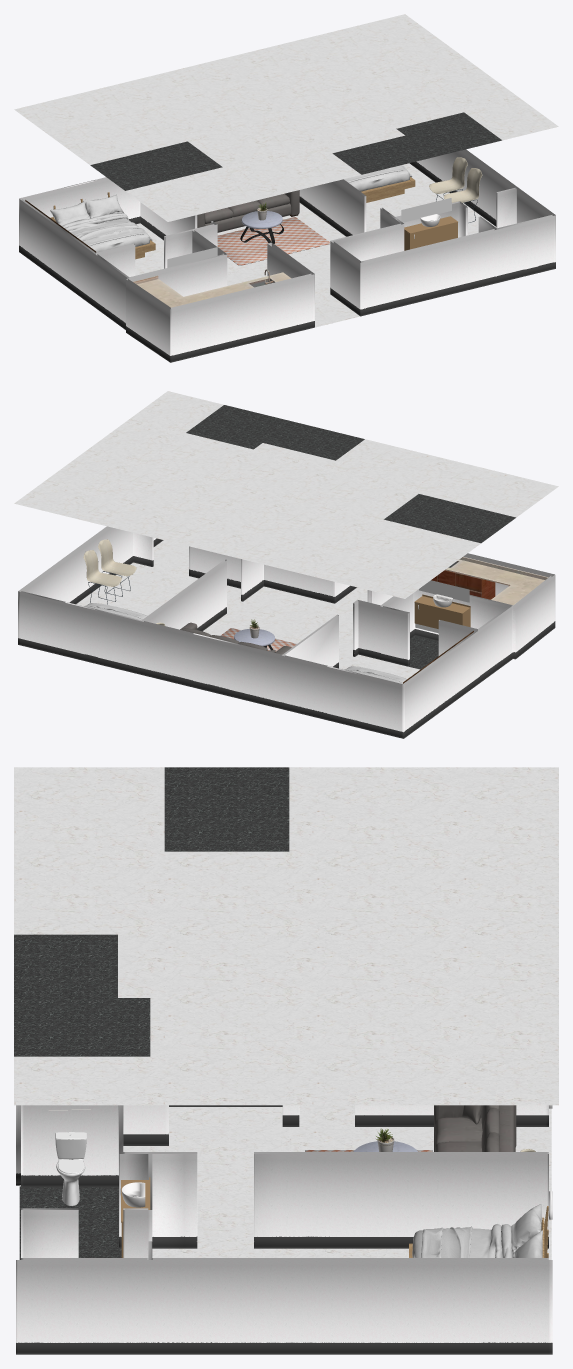
Rendered from DEMO2-sehirici-apartmanici-opt-v6.glb.
3 views of the same model, one above another, from view 1: azimuth 30°, elevation 25°; view 2: azimuth 150°, elevation 25°; view 3: azimuth 270°, elevation 25° (orthographic). The views are drawn at different scales.
Visible parts, largest first — view 1: apartman inside city.002; view 2: apartman inside city.002; view 3: apartman inside city.002.
Boxes of the visible parts, <box> form: apartman inside city.002: <box>14,14,558,362</box>; apartman inside city.002: <box>14,391,558,738</box>; apartman inside city.002: <box>14,767,558,1354</box>.
Bounding box in the file's own units: 5.88 × 2.06 × 4.
Materials: 21 (16 with a texture image).
